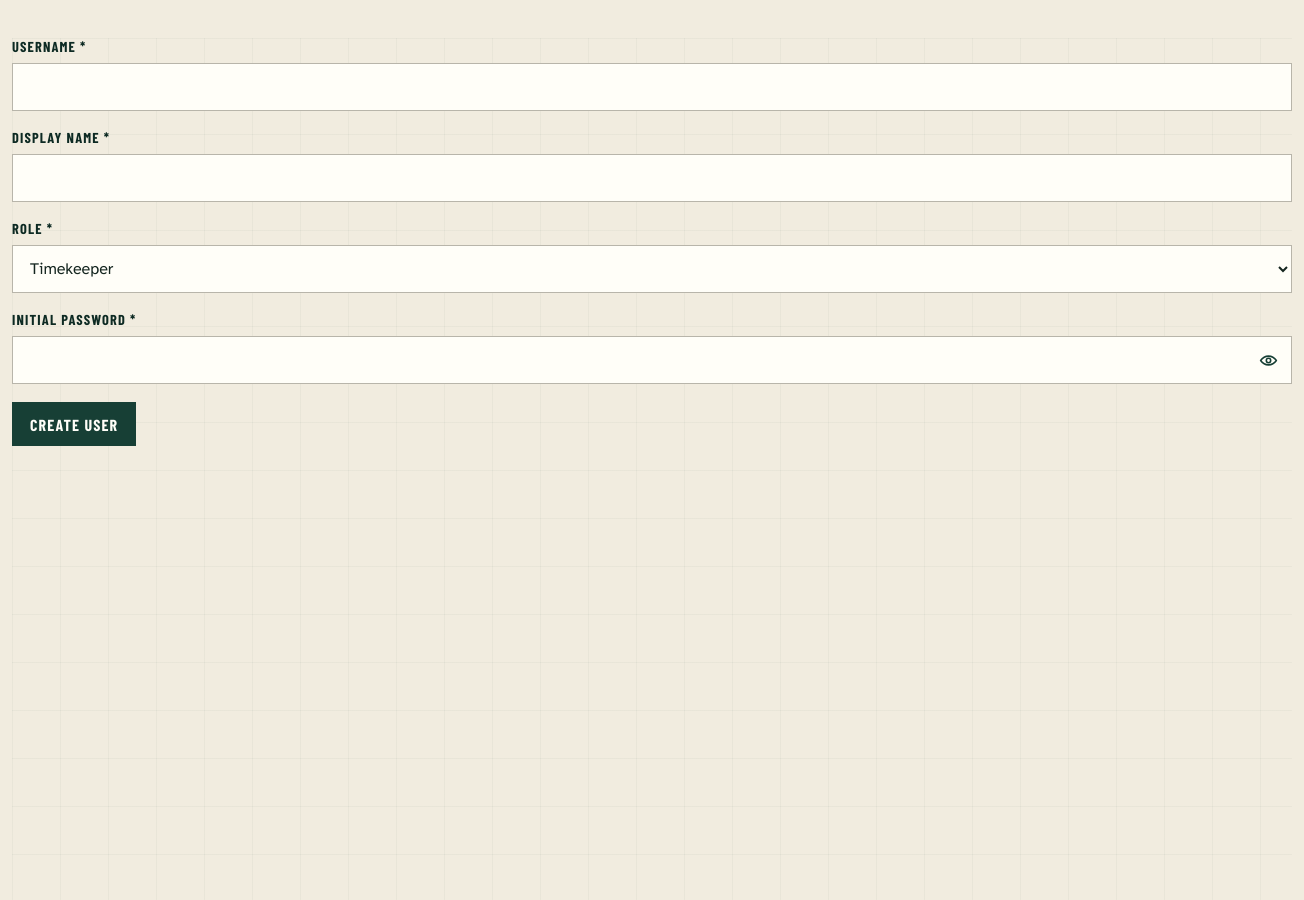
Scenario: UserForm › resets the create form after a successful save
The image size is (1304, 900).
Type "foreman" into the field labelled "Username *".
click(652, 87); type("foreman")  # box [12,63,1292,111]
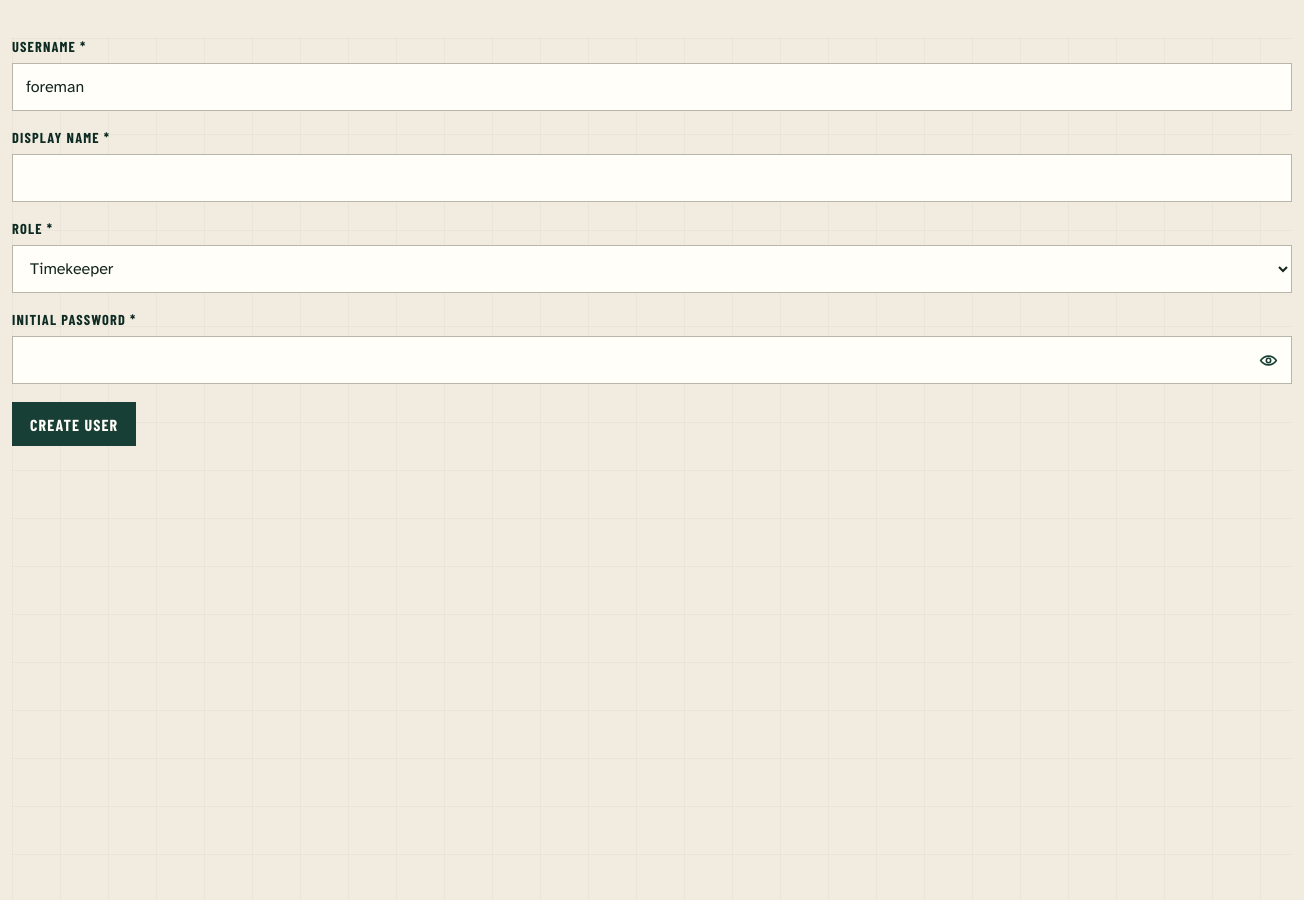
Type "Site Foreman" into the field labelled "Display name *".
click(652, 178); type("Site Foreman")  # box [12,154,1292,202]
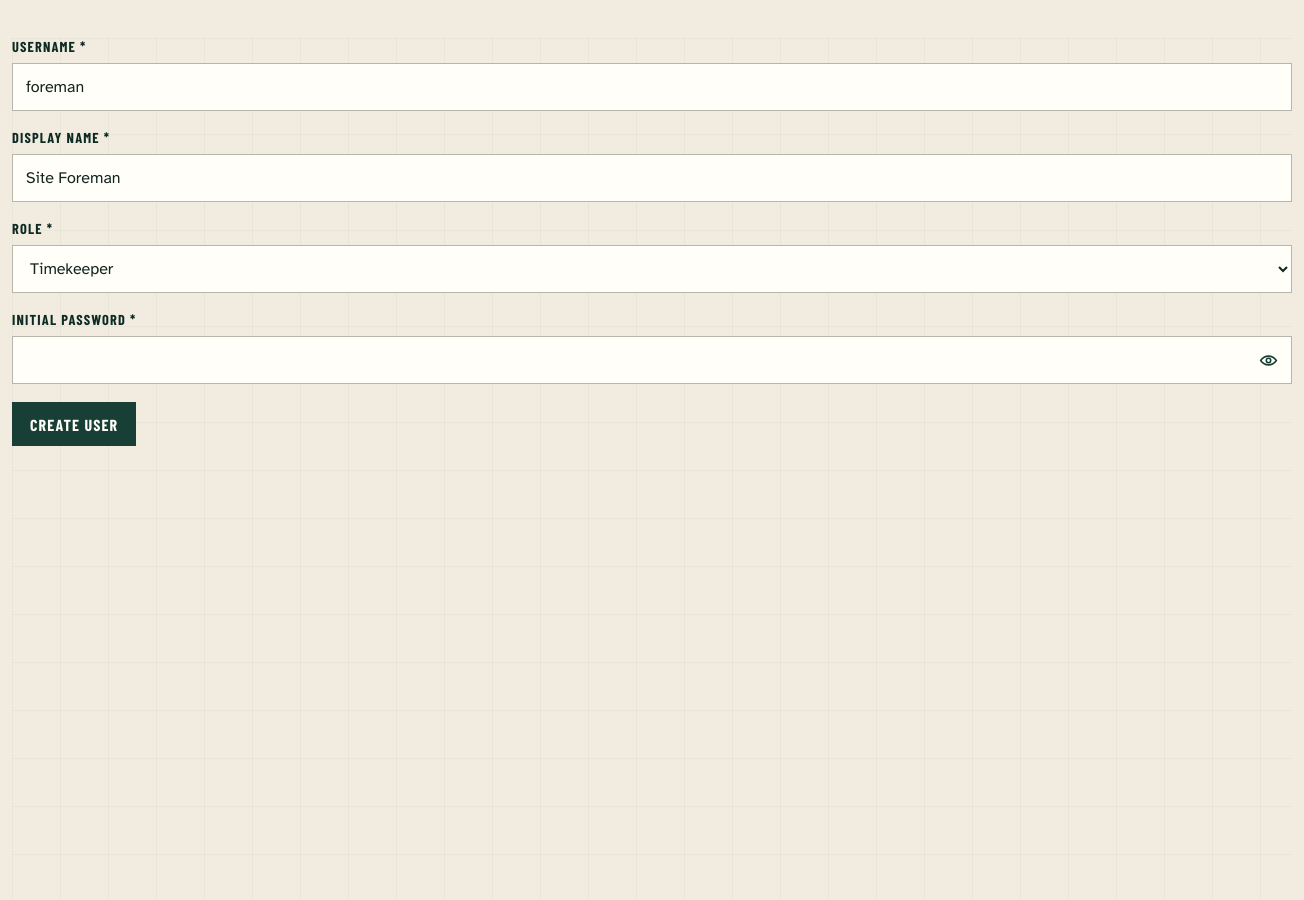
Type "long-password" into the password field labelled "Initial password *".
click(652, 360); type("long-password")  # box [12,336,1292,384]
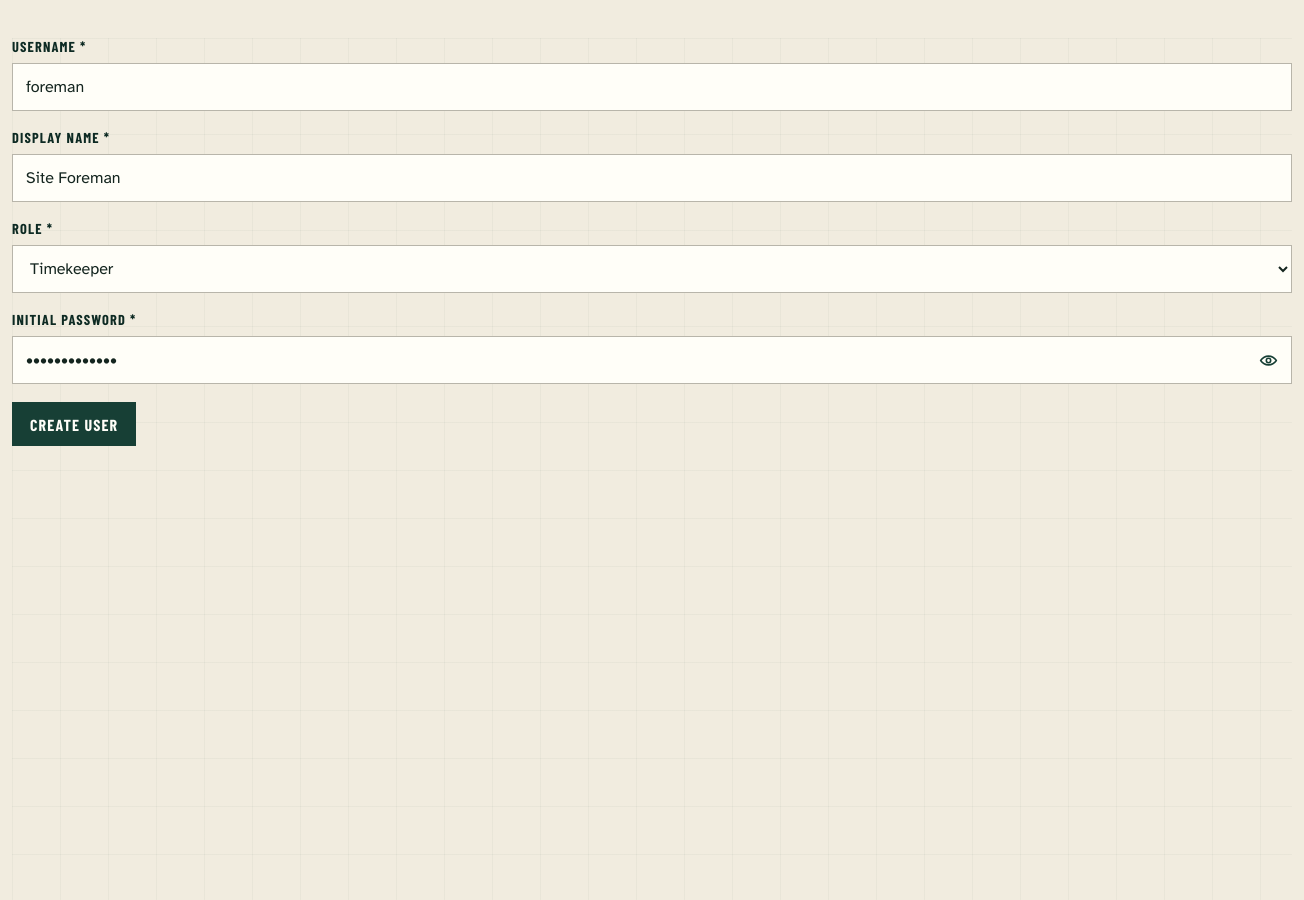
Submit the form "Create user", box [12,38,1292,446]
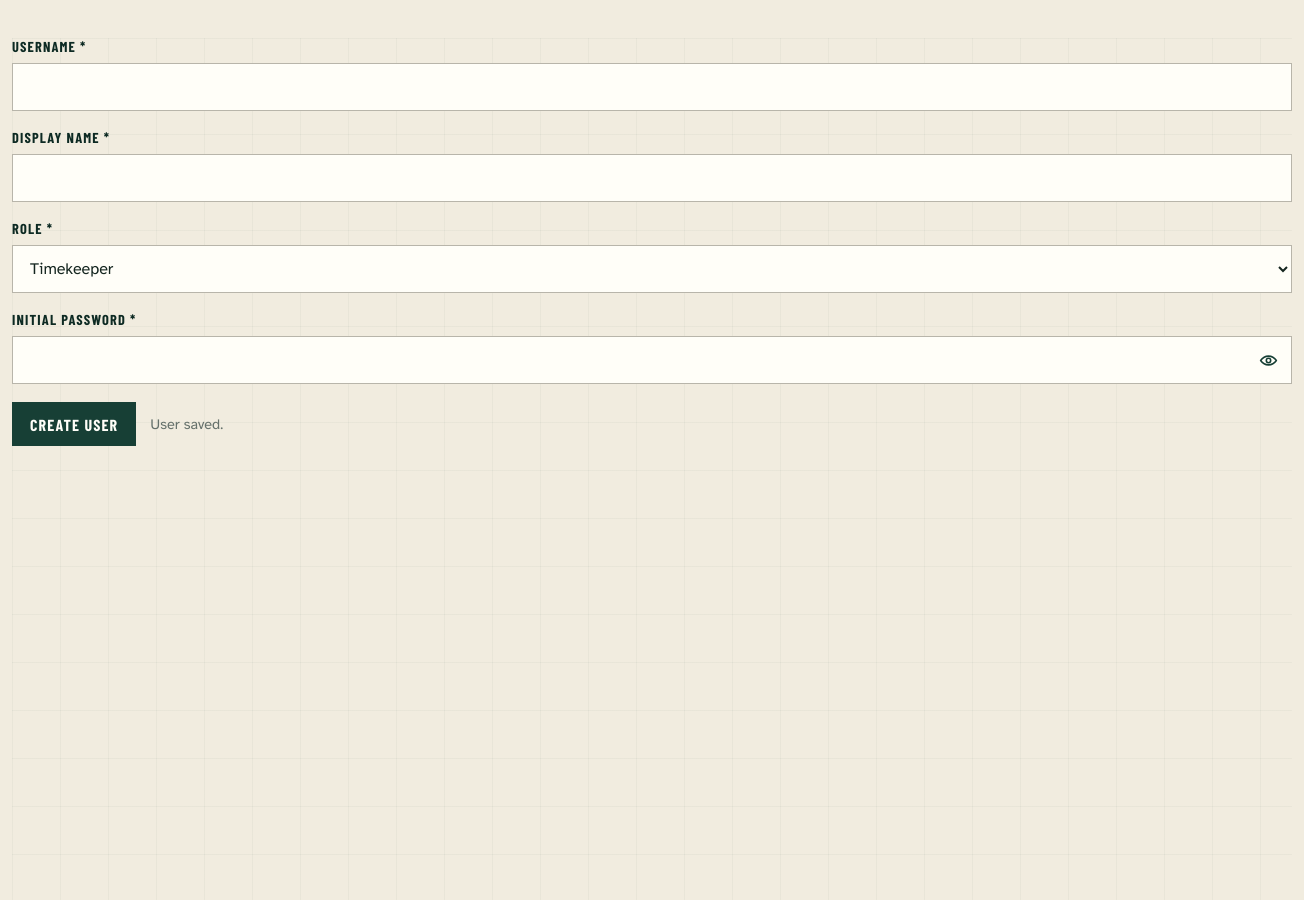
Expected: the text "User saved." is shown, [150,415,223,433]
Expected: the field labelled "Username *" is empty, [12,63,1292,111]
Expected: the field labelled "Display name *" is empty, [12,154,1292,202]
